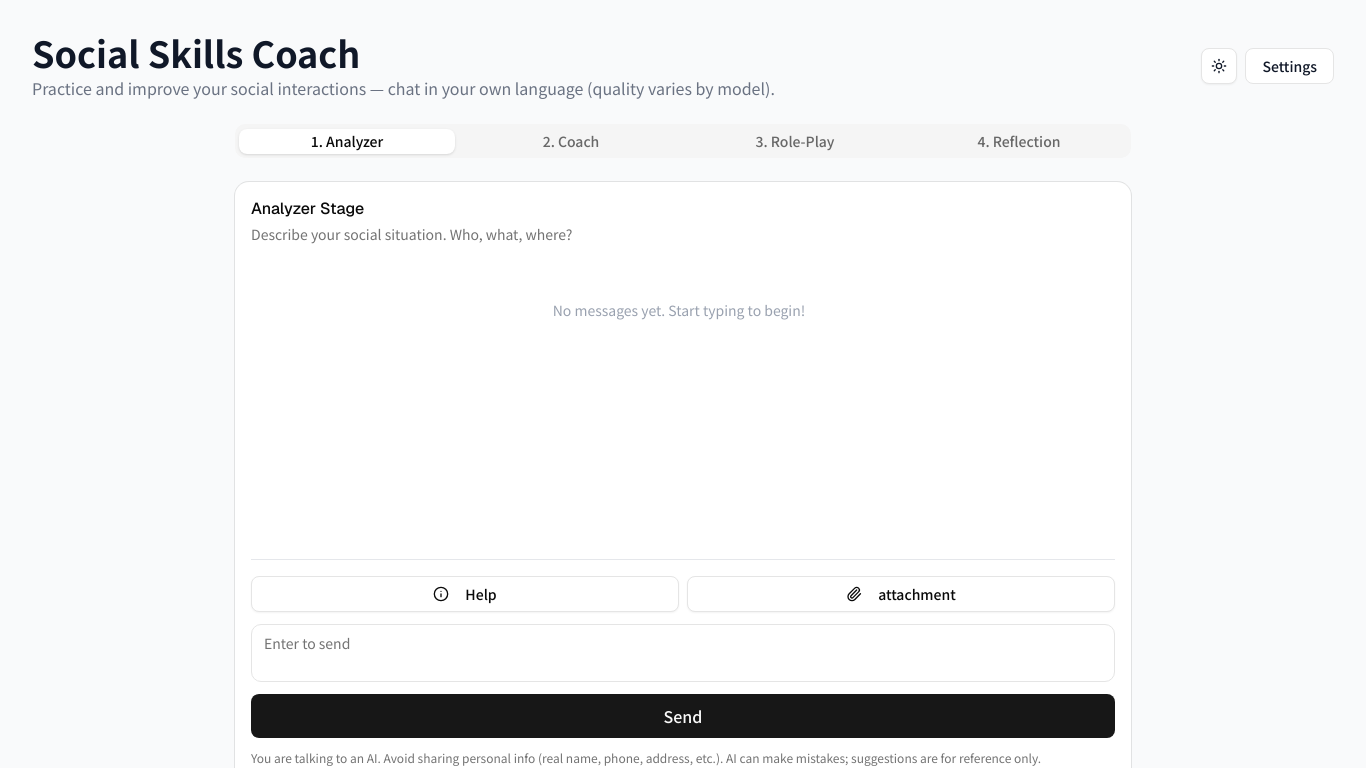
Scenario: Page › opens commands info dialog on Help button click
Click the button "Help": (465, 594) [251,576,679,612]
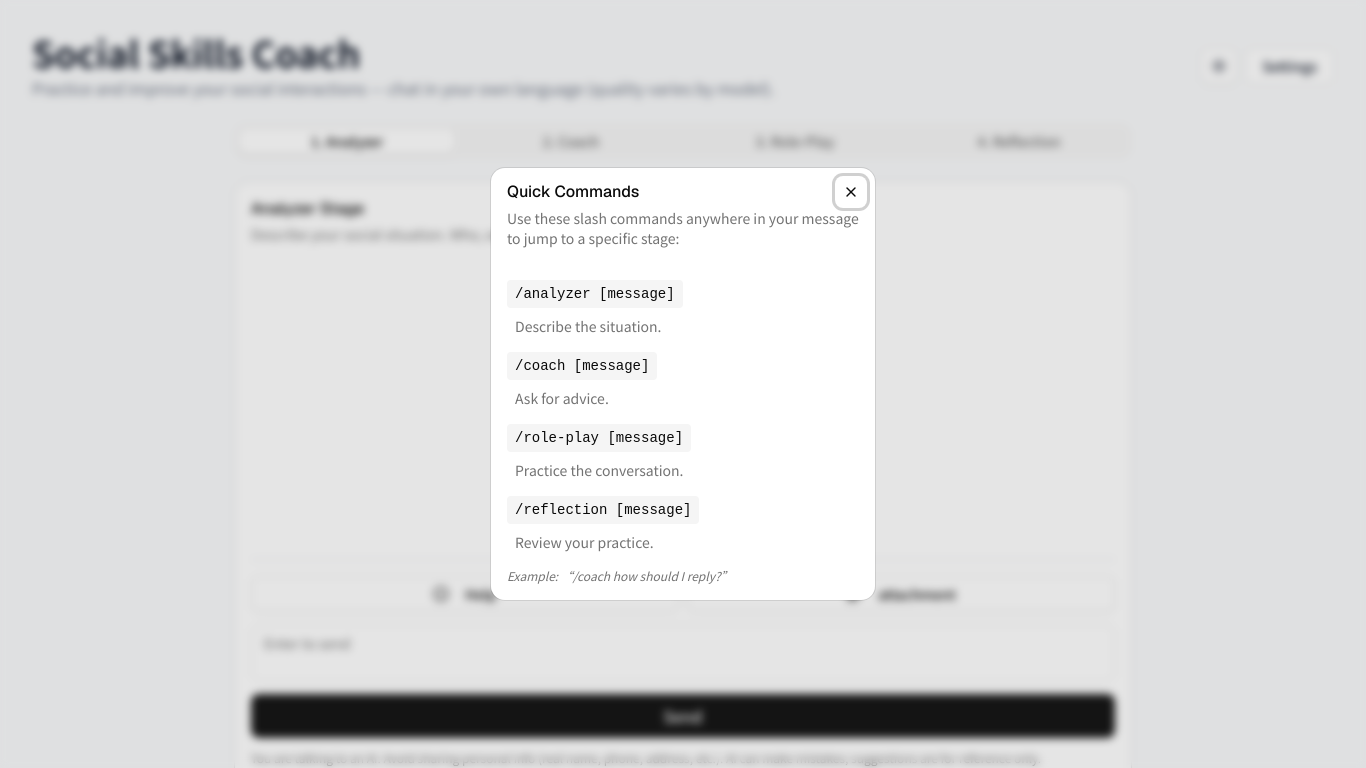
expect the heading "Quick Commands" is shown: met, box [507,181,639,202]
